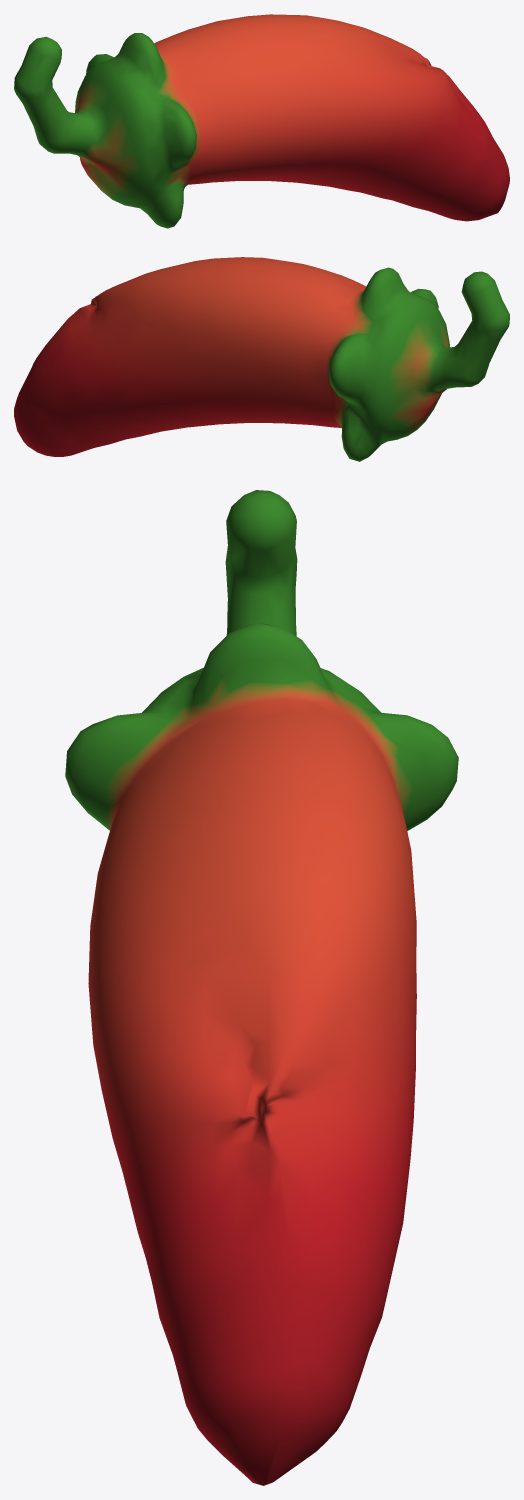
Rendered from chili_pepper.glb.
The picture shows the model from 3 angles, top to bottom: view 1: azimuth 30°, elevation 25°; view 2: azimuth 150°, elevation 25°; view 3: azimuth 270°, elevation 25°; orthographic projection. The views are drawn at different scales.
Parts seen in each view (by area): view 1: chili_pepper_mesh; view 2: chili_pepper_mesh; view 3: chili_pepper_mesh.
Part boxes in pixels (<box>): chili_pepper_mesh: <box>14,14,509,228</box>; chili_pepper_mesh: <box>14,257,509,461</box>; chili_pepper_mesh: <box>65,490,458,1485</box>.
Bounding box in the file's own units: 0.7606 × 0.4223 × 0.2691.
